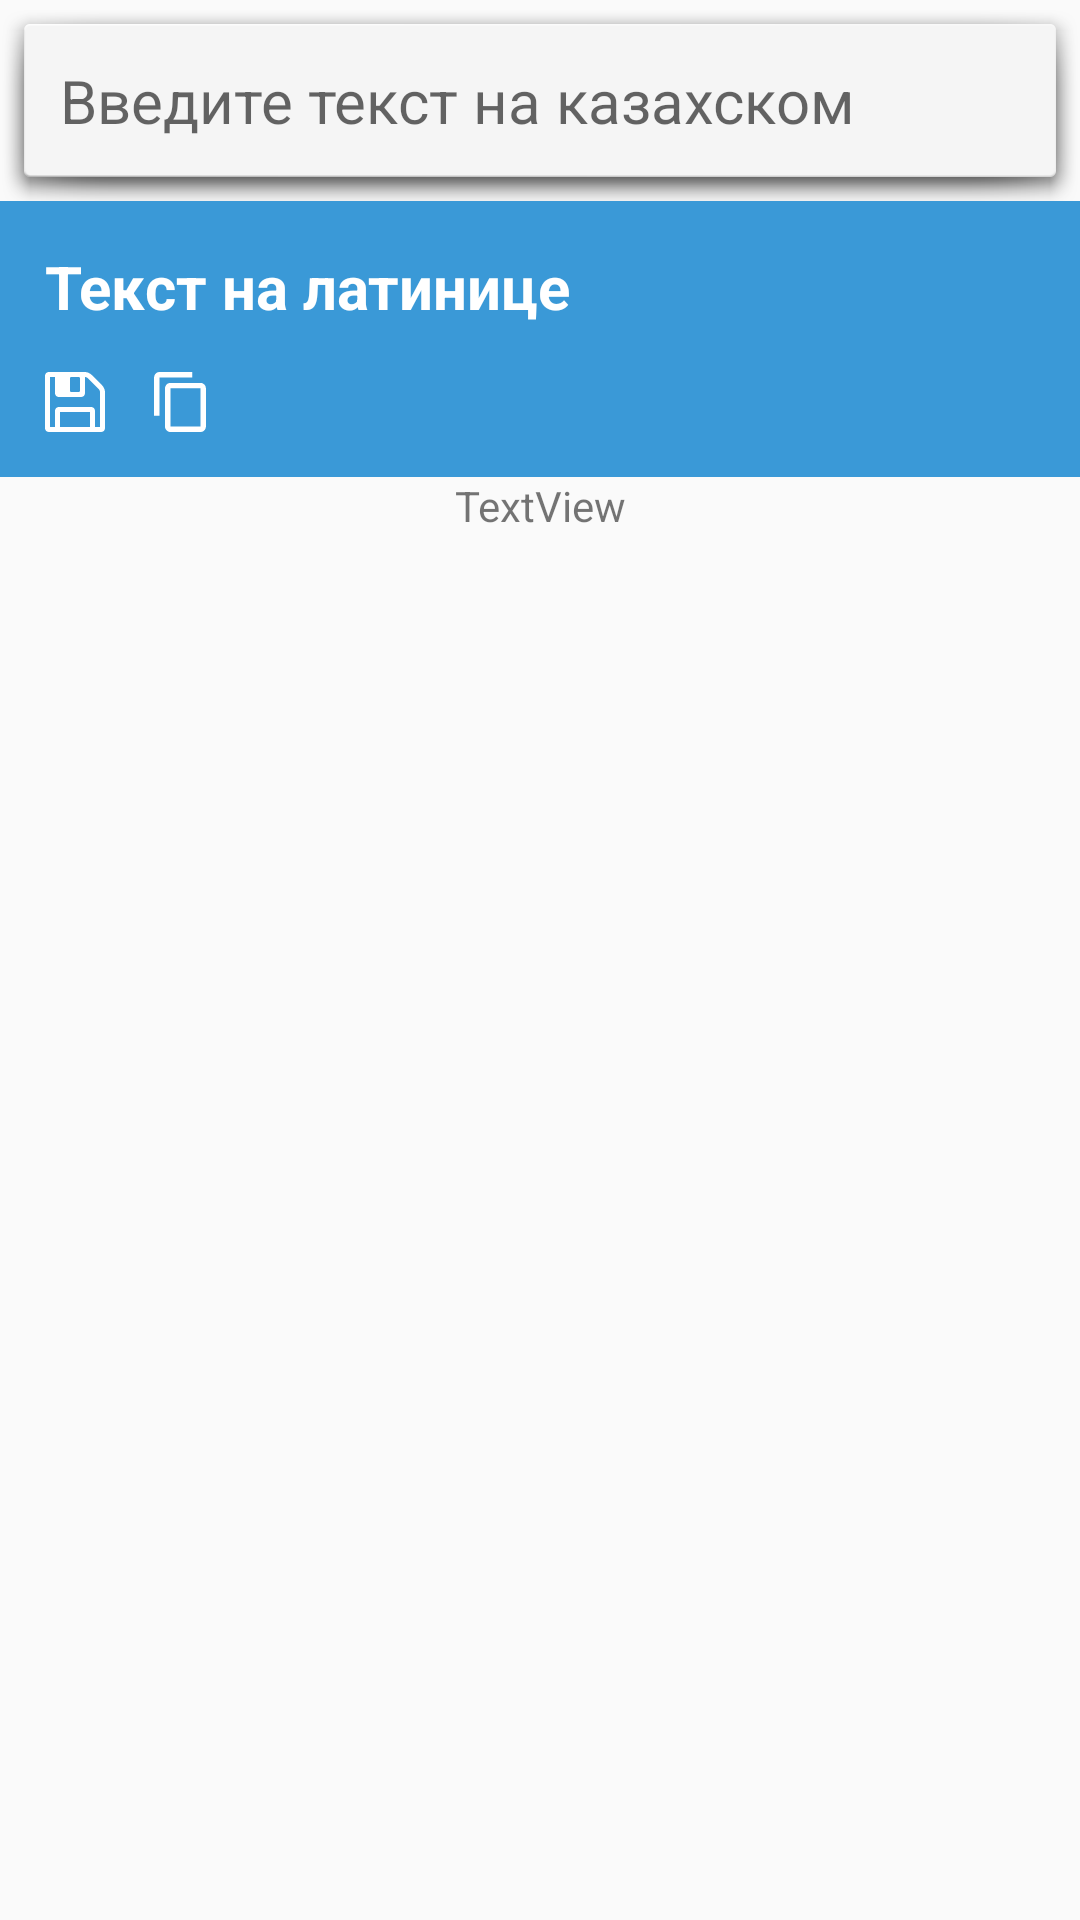

Icon click points for this 1080 x 1920 phone screenshot, format [x,y]:
save: [75,402]
